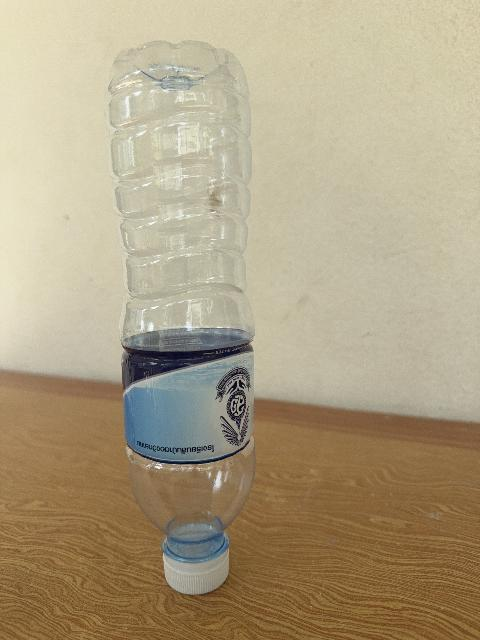bottle: (107, 42, 255, 593)
